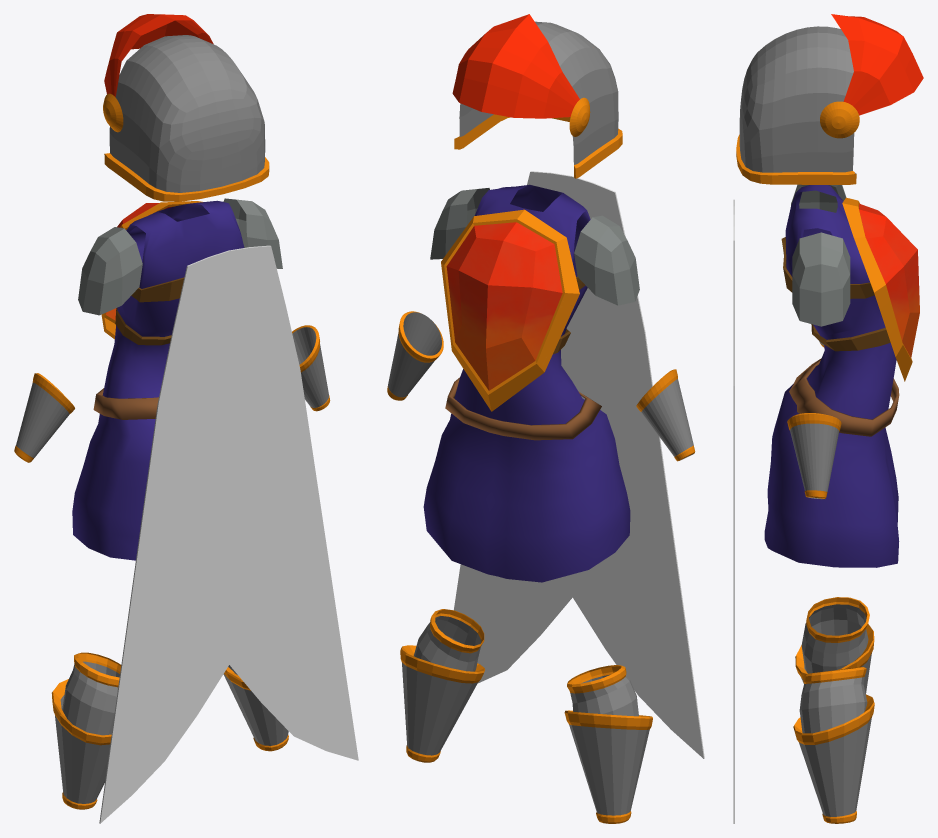
The model's file is player_armor.fbx.
The picture shows the model from 3 angles, left to right: view 1: azimuth 30°, elevation 25°; view 2: azimuth 150°, elevation 25°; view 3: azimuth 270°, elevation 25°; orthographic projection.
Parts seen in each view (by area): view 1: Cape, Helm, Shirt, Leg armor (L), Shoulder Pad (L), Bracer (L), Shield, Leg armor (R), Bracer (R), Shoulder Pad (R), Belt; view 2: Cape, Shirt, Shield, Helm, Leg armor (L), Leg armor (R), Shoulder Pad (L), Bracer (R), Bracer (L), Belt, Shoulder Pad (R); view 3: Shirt, Helm, Leg armor (R), Shield, Leg armor (L), Shoulder Pad (R), Bracer (R), Belt, Cape, Shoulder Pad (L).
Boxes of the visible parts, x1,y1,x2,y2 form: Cape: [99, 245, 358, 823]; Helm: [103, 14, 269, 201]; Shirt: [72, 200, 244, 560]; Leg armor (L): [51, 652, 121, 809]; Shoulder Pad (L): [78, 227, 142, 315]; Bracer (L): [14, 373, 74, 462]; Shield: [101, 201, 202, 345]; Leg armor (R): [223, 665, 288, 751]; Bracer (R): [292, 325, 330, 411]; Shoulder Pad (R): [223, 198, 282, 268]; Belt: [93, 388, 158, 419]; Cape: [454, 171, 704, 758]; Shirt: [423, 184, 630, 582]; Shield: [441, 209, 585, 411]; Helm: [452, 14, 622, 178]; Leg armor (L): [564, 665, 652, 823]; Leg armor (R): [400, 609, 484, 762]; Shoulder Pad (L): [574, 215, 639, 305]; Bracer (R): [387, 311, 443, 400]; Bracer (L): [636, 369, 695, 461]; Belt: [445, 377, 601, 440]; Shoulder Pad (R): [430, 188, 489, 259]; Shirt: [764, 185, 899, 567]; Helm: [736, 14, 923, 184]; Leg armor (R): [793, 667, 874, 823]; Shield: [781, 197, 919, 381]; Leg armor (L): [795, 597, 874, 693]; Shoulder Pad (R): [792, 232, 850, 326]; Bracer (R): [787, 413, 841, 499]; Belt: [789, 358, 899, 436]; Cape: [733, 199, 734, 823]; Shoulder Pad (L): [791, 184, 846, 212].
Size of the model in its own units: 118 by 283 by 63.34.
